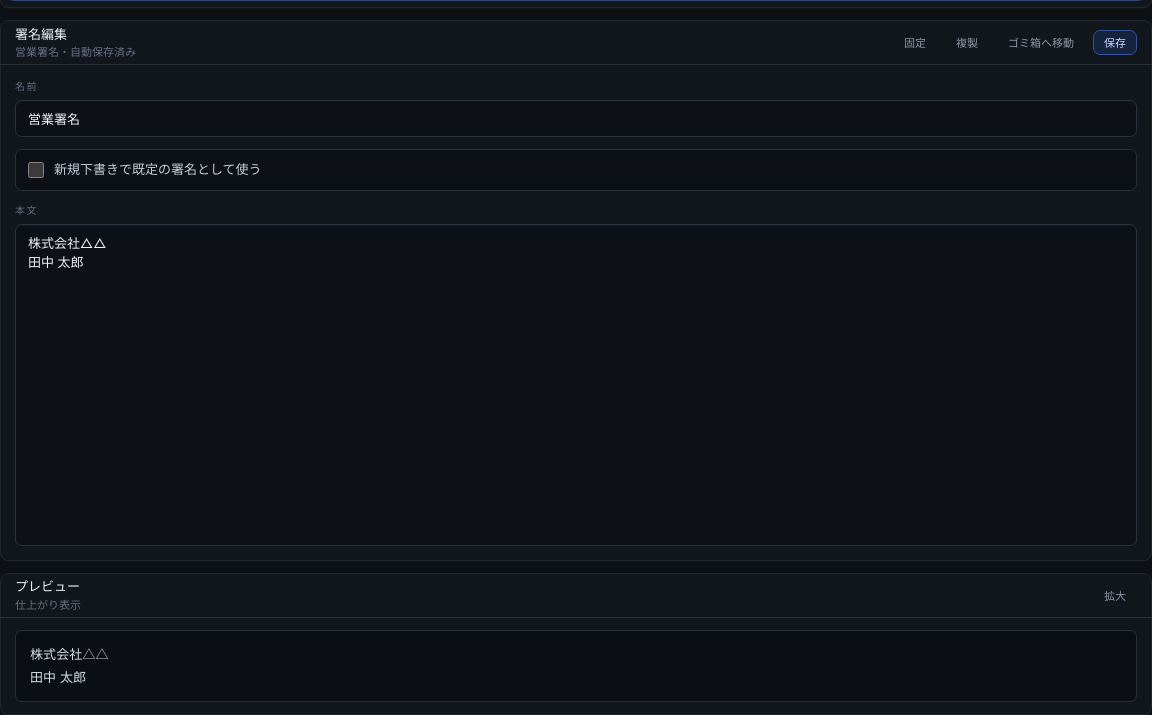
signature UI › connects signature workspace overlay
(page scrolled)
Click the button "拡大" at (1115, 596), box [1093, 583, 1137, 608]
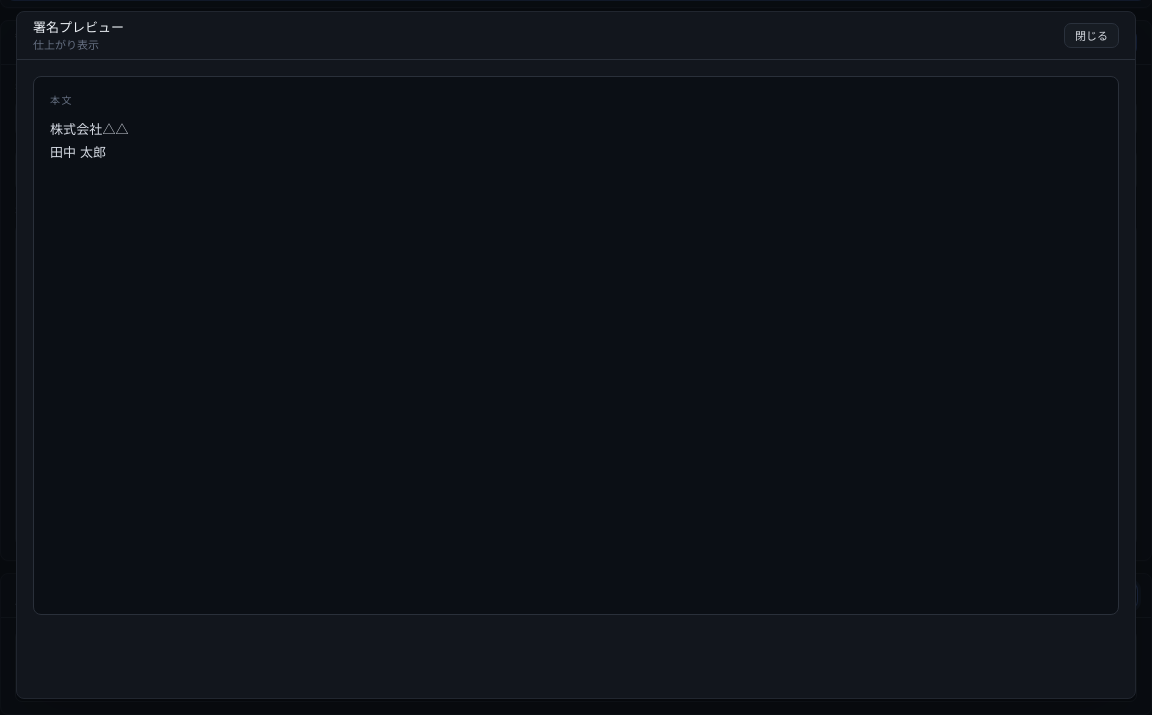
Expected: the text "署名プレビュー" is shown, [33, 18, 124, 37]
